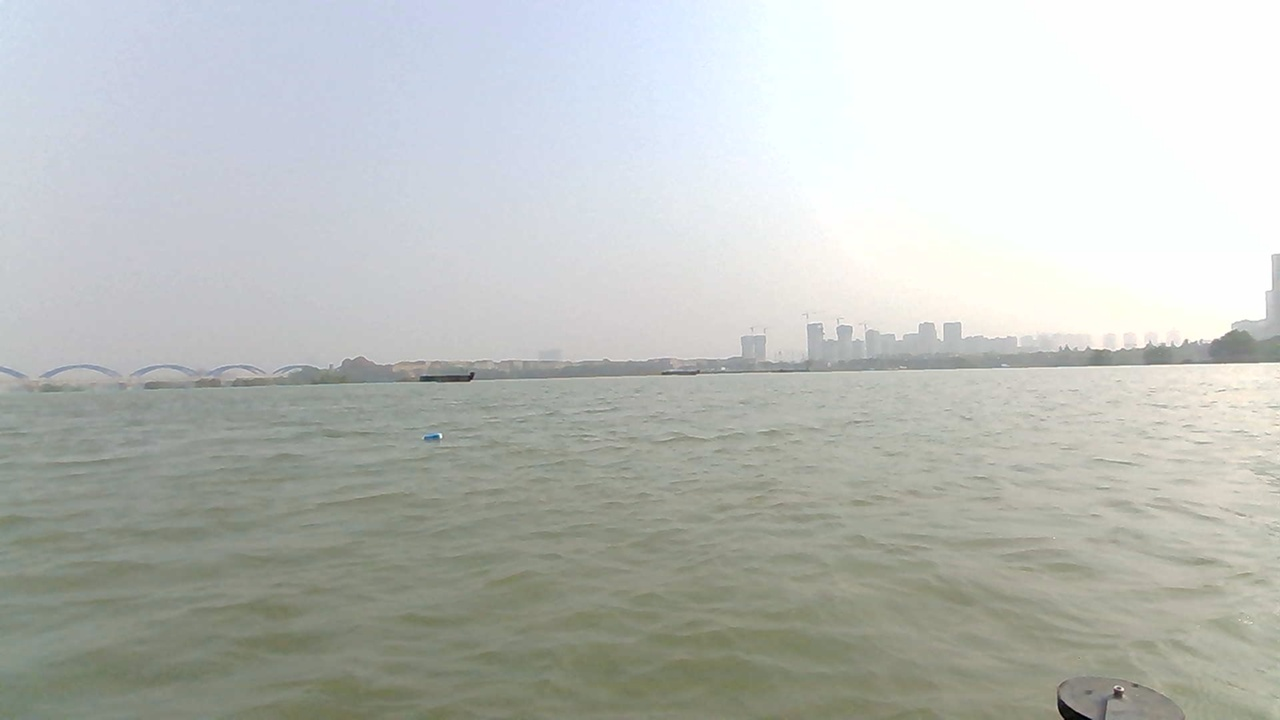bottle: (419, 431, 448, 445)
